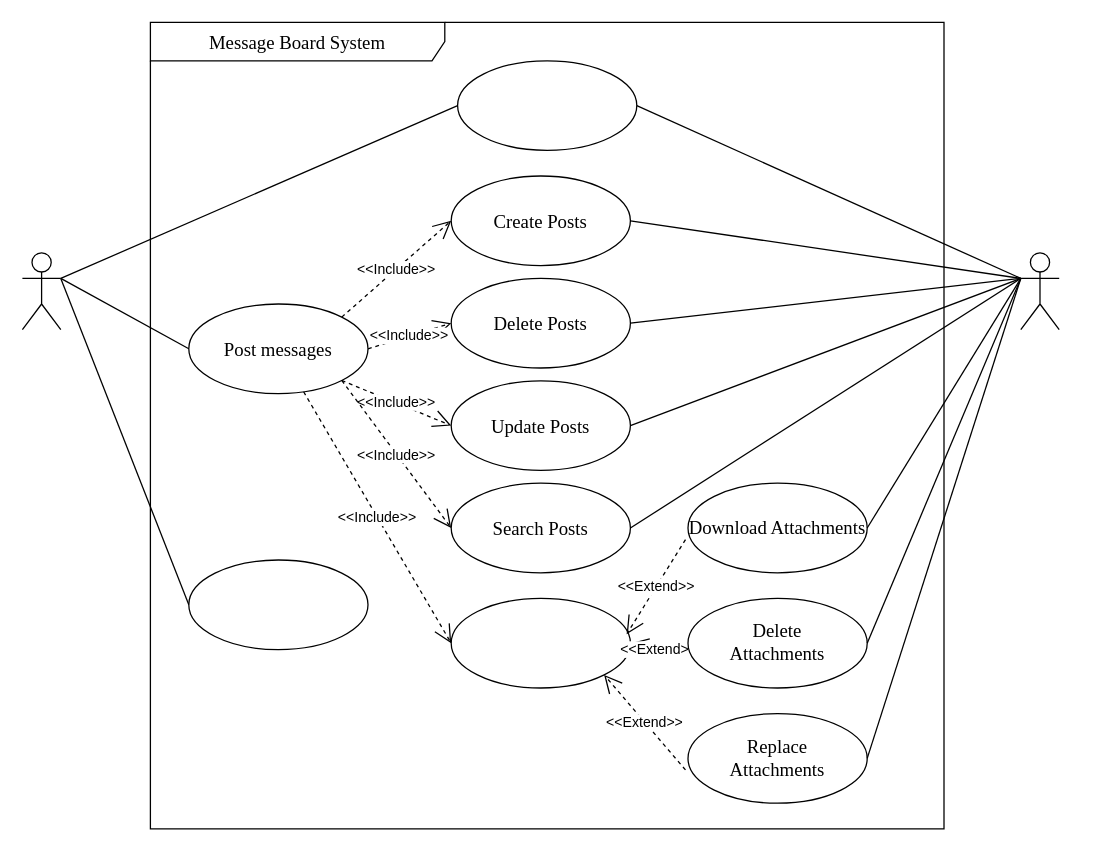
The diagram is 1096 pixels wide and 851 high, and some of its shapes have lost their labels. Here are the shapes that lost their labels. From the top down, the centre of each, then its label:
point 546,105: Check Authenticated accounts
point 41,291: Users
point 1039,291: Message Database
point 278,604: Sign out
point 540,642: View Posts
